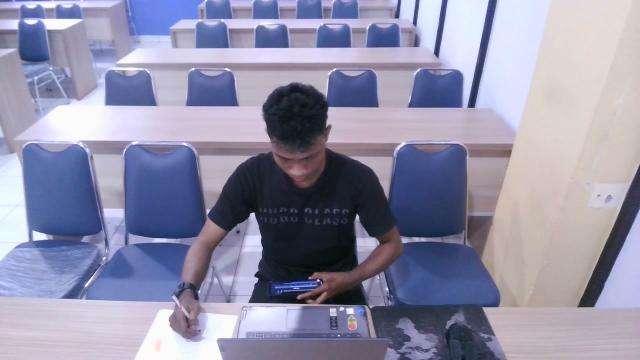Head_Down_Extreme: (209, 66, 412, 331)
Mobile_Phone: (263, 274, 326, 301)
